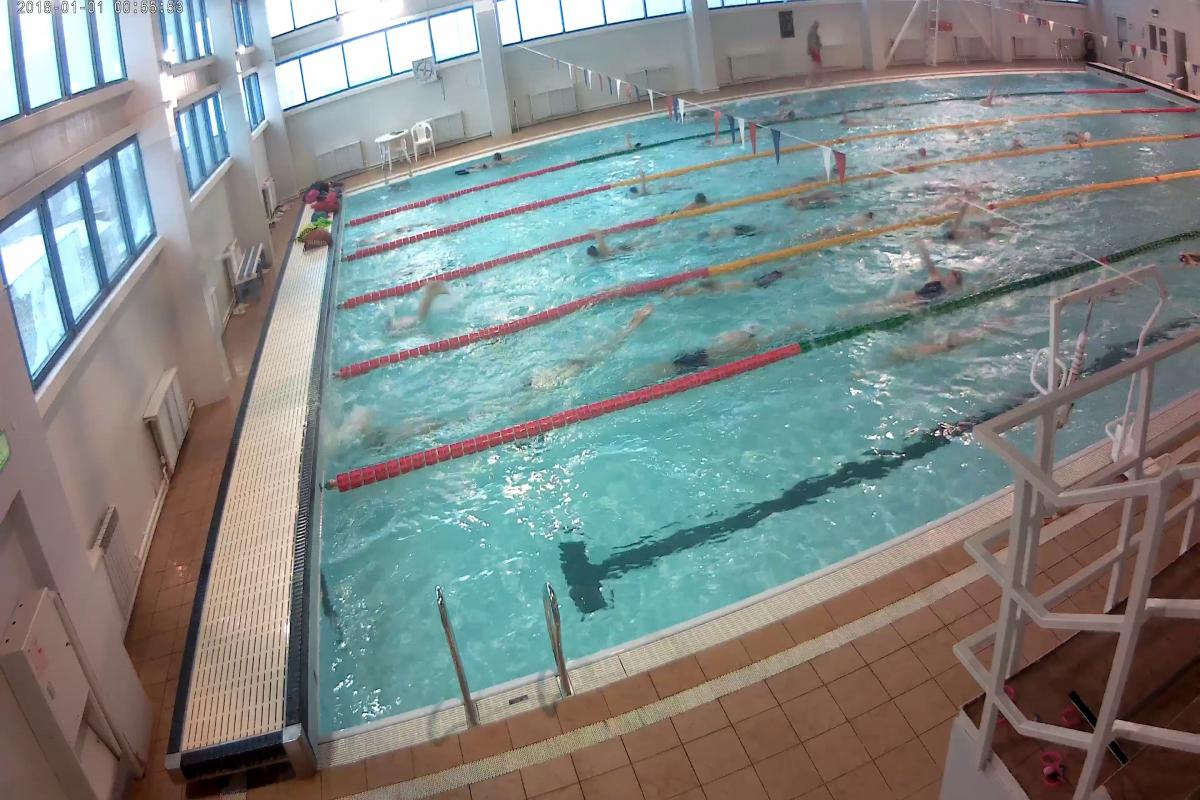swimmer: (878, 313, 1014, 379), (846, 262, 970, 320), (653, 321, 770, 377), (679, 261, 792, 306), (385, 279, 455, 345), (805, 208, 875, 242), (778, 188, 856, 210), (694, 219, 773, 240), (583, 236, 638, 264), (888, 139, 938, 169), (665, 186, 711, 218), (1171, 248, 1200, 276)
